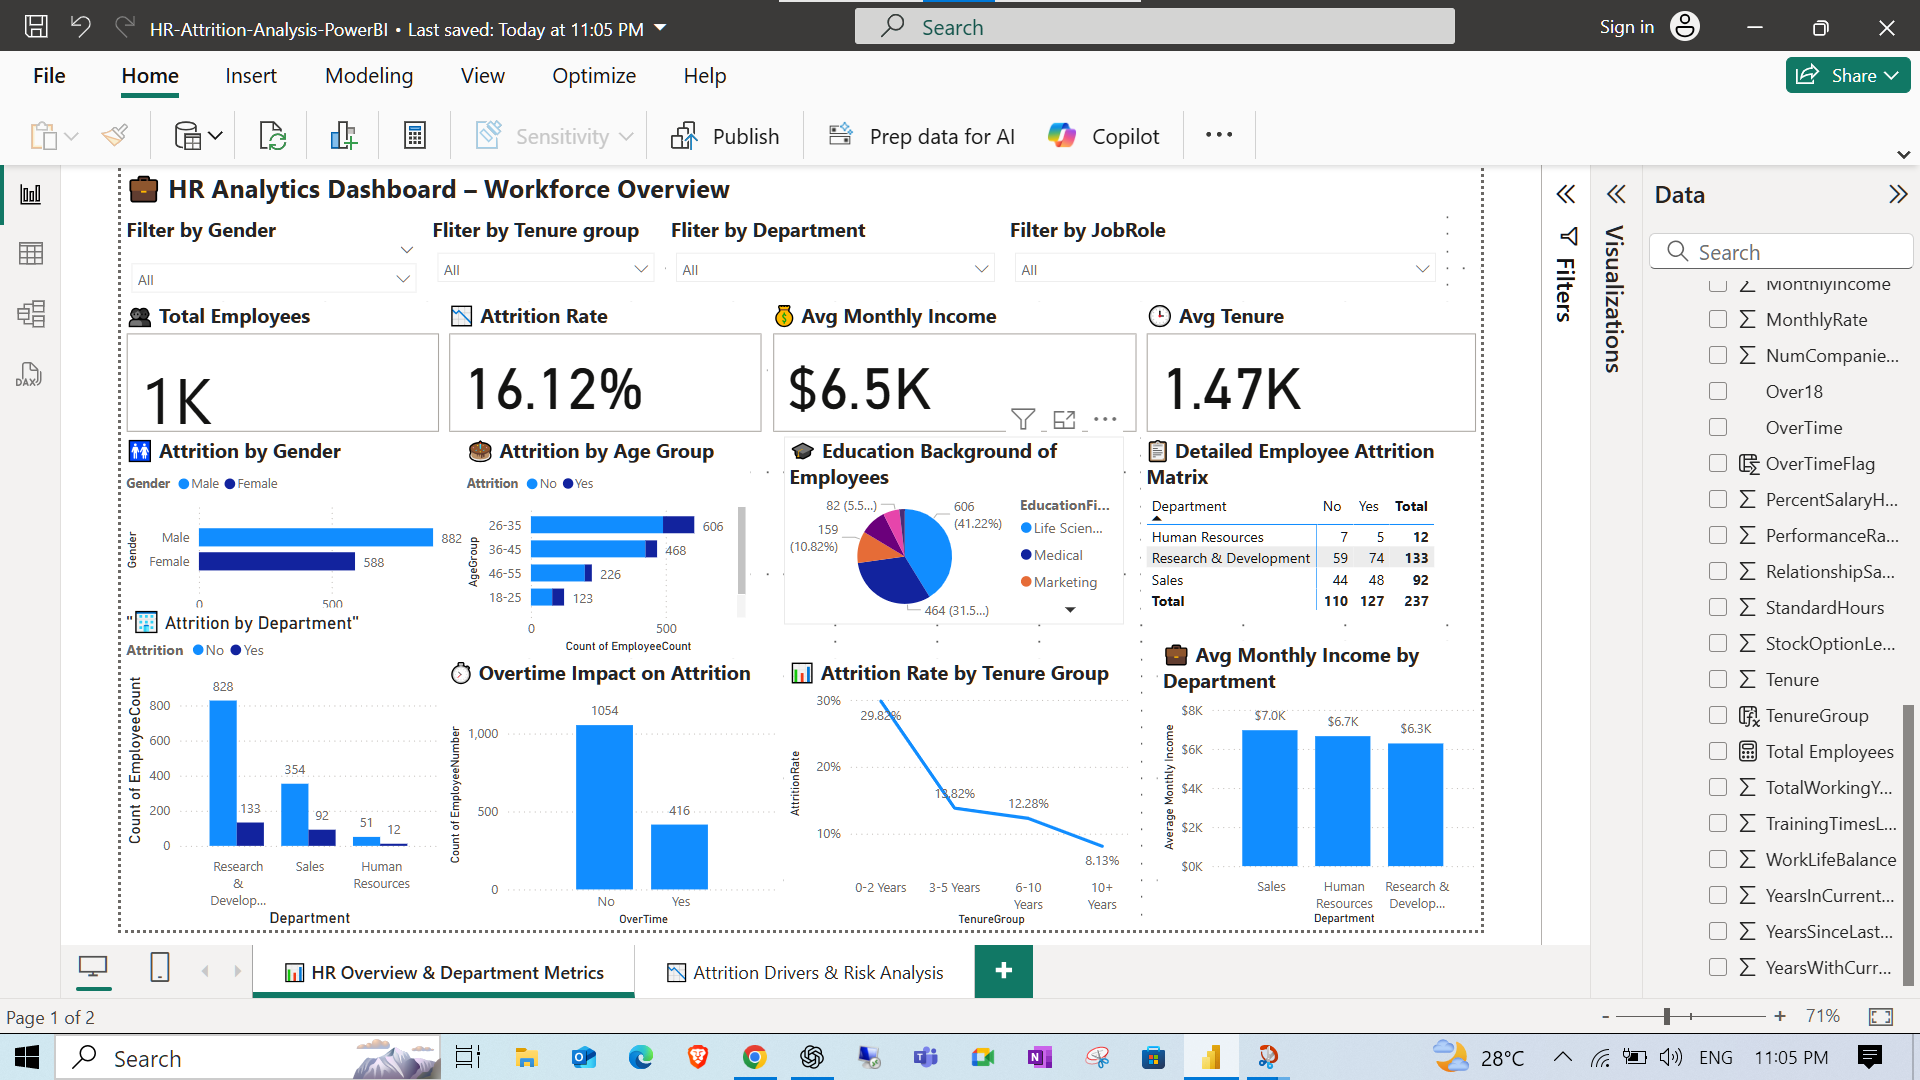

The dashboard page shown, as its layout file describes it:
{"tool":"powerbi","page":{"name":"📊 HR Overview & Department Metrics","canvas":[1280,720],"ordinal":0},"visuals":[{"type":"cardVisual","title":"💰 Avg Monthly Income","fields":{"Data":["EmployeeData.Average Monthly Income"]},"box":[608,128,352,128],"z":0},{"type":"cardVisual","title":"📉 Attrition Rate","fields":{"Data":["EmployeeData.Attrition Rate %"]},"box":[304,128,304,128],"z":1000},{"type":"cardVisual","title":"🕒 Avg Tenure","fields":{"Data":["EmployeeData.Tenure"]},"box":[960,128,320,128],"z":2000},{"type":"cardVisual","title":"👥 Total Employees","fields":{"Data":["EmployeeData.Total Employees"]},"box":[0,128,304,128],"z":3000},{"type":"slicer","title":"Filter by Gender","fields":{"Values":["EmployeeData.Gender"]},"box":[0,48,288,80],"z":4000},{"type":"barChart","title":"🚻 Attrition by Gender","fields":{"Y":["EmployeeData.EmployeeNumber"],"Category":["EmployeeData.Gender"],"Series":["EmployeeData.Gender"]},"box":[0,256,336,176],"z":5000},{"type":"barChart","title":"🎂 Attrition by Age Group","fields":{"Series":["EmployeeData.Attrition"],"Category":["EmployeeData.AgeGroup"],"Y":["EmployeeData.EmployeeCount"]},"box":[320,256,272,208],"z":6000},{"type":"pieChart","title":"🎓 Education Background of Employees","fields":{"Category":["EmployeeData.EducationField"],"Y":["EmployeeData.EmployeeNumber"]},"box":[624,256,320,176],"z":7000},{"type":"clusteredColumnChart","title":"\"🏢 Attrition by Department\"","fields":{"Category":["EmployeeData.Department"],"Series":["EmployeeData.Attrition"],"Y":["EmployeeData.EmployeeCount"]},"box":[0,416,304,304],"z":8000},{"type":"clusteredColumnChart","title":"\t💼 Avg Monthly Income by Department","fields":{"Category":["EmployeeData.Department"],"Y":["EmployeeData.Average Monthly Income"]},"box":[976,448,304,272],"z":9000},{"type":"lineChart","title":"📊 Attrition Rate by Tenure Group","fields":{"Category":["EmployeeData.TenureGroup"],"Y":["EmployeeData.Attrition Rate"]},"box":[624,464,336,256],"z":10000},{"type":"columnChart","title":"\t⏱️ Overtime Impact on Attrition","fields":{"Category":["EmployeeData.OverTime"],"Y":["EmployeeData.EmployeeNumber"]},"box":[304,464,320,256],"z":11000},{"type":"pivotTable","title":"📋 Detailed Employee Attrition Matrix","fields":{"Rows":["EmployeeData.Department"],"Columns":["EmployeeData.OverTime"],"Values":["EmployeeData.Attrition Count"]},"box":[960,256,320,176],"z":12000},{"type":"textbox","box":[0,0,1280,48],"z":13000},{"type":"slicer","title":"Fliter by Department","fields":{"Values":["EmployeeData.Department"]},"box":[512,48,320,80],"z":14000},{"type":"slicer","title":"Filter by JobRole","fields":{"Values":["EmployeeData.JobRole"]},"box":[832,48,416,80],"z":15000},{"type":"slicer","title":"Fliter by Tenure group","fields":{"Values":["EmployeeData.TenureGroup"]},"box":[288,48,224,80],"z":16000}]}

Visuals, with their boxes on the page's 1280x720 design canvas (x1, y1, x2, y2). These are canvas units, not pixel positions in the 1920x1080 screenshot, which may show the page scaled, cropped or inside an application window:
"💰 Avg Monthly Income" cardVisual: box=[608, 128, 960, 256]
"📉 Attrition Rate" cardVisual: box=[304, 128, 608, 256]
"🕒 Avg Tenure" cardVisual: box=[960, 128, 1280, 256]
"👥 Total Employees" cardVisual: box=[0, 128, 304, 256]
"Filter by Gender" slicer: box=[0, 48, 288, 128]
"🚻 Attrition by Gender" barChart: box=[0, 256, 336, 432]
"🎂 Attrition by Age Group" barChart: box=[320, 256, 592, 464]
"🎓 Education Background of Employees" pieChart: box=[624, 256, 944, 432]
""🏢 Attrition by Department"" clusteredColumnChart: box=[0, 416, 304, 720]
"	💼 Avg Monthly Income by Department" clusteredColumnChart: box=[976, 448, 1280, 720]
"📊 Attrition Rate by Tenure Group" lineChart: box=[624, 464, 960, 720]
"	⏱️ Overtime Impact on Attrition" columnChart: box=[304, 464, 624, 720]
"📋 Detailed Employee Attrition Matrix" pivotTable: box=[960, 256, 1280, 432]
textbox: box=[0, 0, 1280, 48]
"Fliter by Department" slicer: box=[512, 48, 832, 128]
"Filter by JobRole" slicer: box=[832, 48, 1248, 128]
"Fliter by Tenure group" slicer: box=[288, 48, 512, 128]
